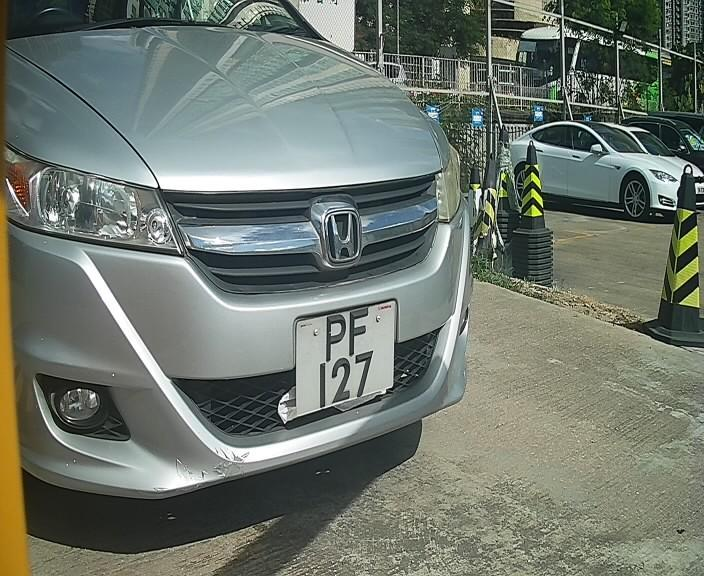License Plate: (287, 296, 400, 420)
